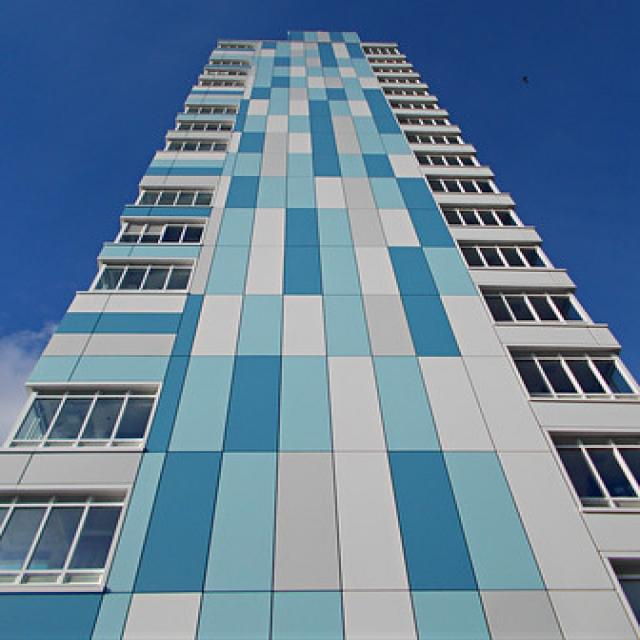Normal_building: (4, 25, 640, 640)
